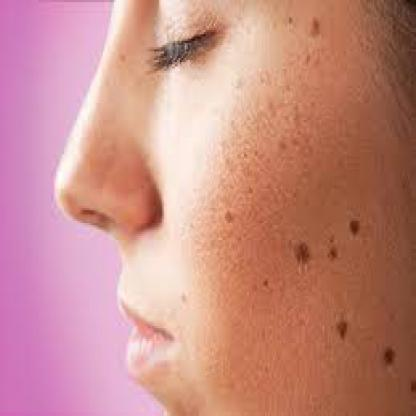darkspot: (308, 189, 414, 238), (364, 283, 414, 365), (310, 6, 374, 35), (236, 185, 268, 206), (284, 245, 305, 269), (126, 41, 145, 66), (195, 263, 211, 278)
